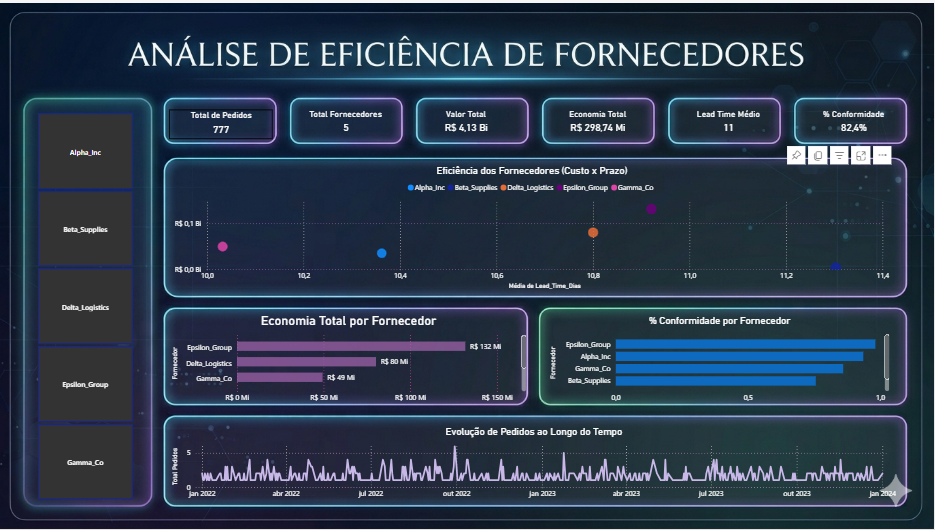

The page's visual inventory and layout, read from the dashboard file:
{"tool":"powerbi","page":{"name":"Visão Executiva","canvas":[1600,900],"ordinal":0},"visuals":[{"type":"card","title":"Total de Pedidos","fields":{"Values":["Base_Contratos.Total Pedidos"]},"box":[292.9,181.6,176.7,50.7],"z":0},{"type":"card","title":"Total Fornecedores","fields":{"Values":["Base_Contratos.Total Fornecedores"]},"box":[504,181.6,181.6,47.5],"z":1000},{"type":"card","title":"Valor Total","fields":{"Values":["Base_Contratos.Valor Total"]},"box":[716.7,181.6,166.9,47.5],"z":2000},{"type":"card","title":"Lead Time Médio","fields":{"Values":["Avg(Base_Contratos.Lead_Time_Dias)"]},"box":[1170,181.6,158.7,47.5],"z":3000},{"type":"card","title":"% Conformidade","fields":{"Values":["Base_Contratos.% Conformidade"]},"box":[1400.5,180.6,128.1,48.3],"z":4000},{"type":"card","title":"Economia Total","fields":{"Values":["Base_Contratos.Economia Total"]},"box":[939.3,181.6,173.5,47.5],"z":5000},{"type":"clusteredBarChart","fields":{"Category":["Base_Contratos.Fornecedor"],"Y":["Base_Contratos.Economia Total"]},"box":[291.9,531.2,617.3,161.7],"z":6000},{"type":"scatterChart","title":"Eficiência dos Fornecedores (Custo x Prazo)","fields":{"X":["Avg(Base_Contratos.Lead_Time_Dias)"],"Y":["Base_Contratos.Economia Total"],"Series":["Base_Contratos.Fornecedor"],"Size":["Base_Contratos.Valor Total"]},"box":[296.2,276.5,1233.8,219.3],"z":7000},{"type":"barChart","fields":{"Category":["Base_Contratos.Fornecedor"],"Y":["Base_Contratos.% Conformidade"]},"box":[939.3,533.5,590.7,158.7],"z":8000},{"type":"lineChart","title":"Evolução de Pedidos ao Longo do Tempo","fields":{"Y":["Base_Contratos.Total Pedidos"],"Category":["Base_Contratos.Data_Pedido"]},"box":[292.9,723.3,1248.5,134.2],"z":9000},{"type":"slicer","fields":{"Values":["Base_Contratos.Fornecedor"]},"box":[42,182.7,212.1,674],"z":9001}]}

Visuals, with their boxes in screenshot pixels (x1, y1, x2, y2), scaled from the page's 1600x900 canvas onto the 935x530 screenshot:
"Total de Pedidos" card: bbox=(171, 107, 274, 137)
"Total Fornecedores" card: bbox=(295, 107, 401, 135)
"Valor Total" card: bbox=(419, 107, 516, 135)
"Lead Time Médio" card: bbox=(684, 107, 776, 135)
"% Conformidade" card: bbox=(818, 106, 893, 135)
"Economia Total" card: bbox=(549, 107, 650, 135)
clusteredBarChart - Base_Contratos.Fornecedor x Base_Contratos.Economia Total: bbox=(171, 313, 531, 408)
"Eficiência dos Fornecedores (Custo x Prazo)" scatterChart: bbox=(173, 163, 894, 292)
barChart - Base_Contratos.Fornecedor x Base_Contratos.% Conformidade: bbox=(549, 314, 894, 408)
"Evolução de Pedidos ao Longo do Tempo" lineChart: bbox=(171, 426, 901, 505)
slicer - Base_Contratos.Fornecedor: bbox=(25, 108, 148, 505)
